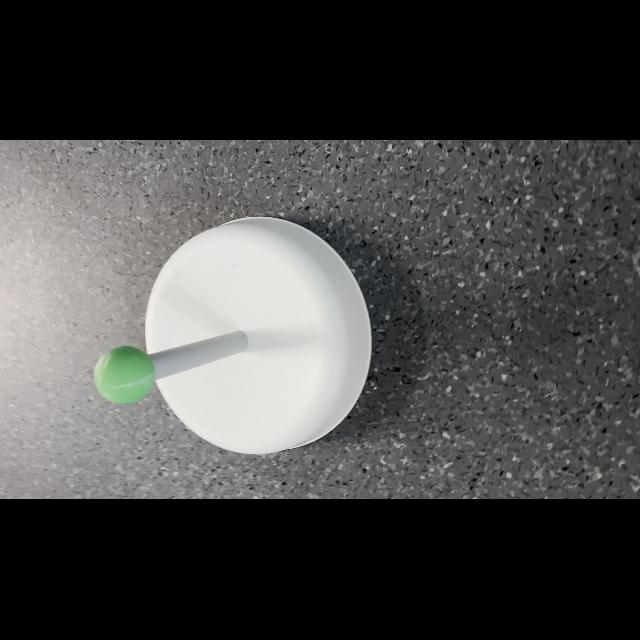objects: (85, 342, 165, 410)
